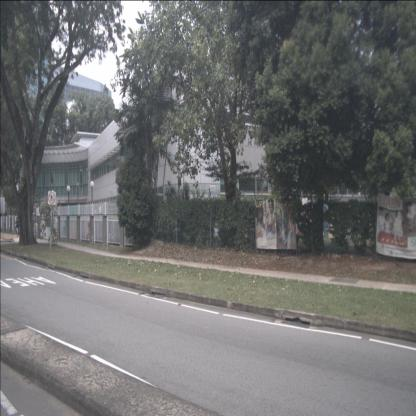vehicle-bicycle: (48, 225, 58, 247), (15, 217, 20, 237)
